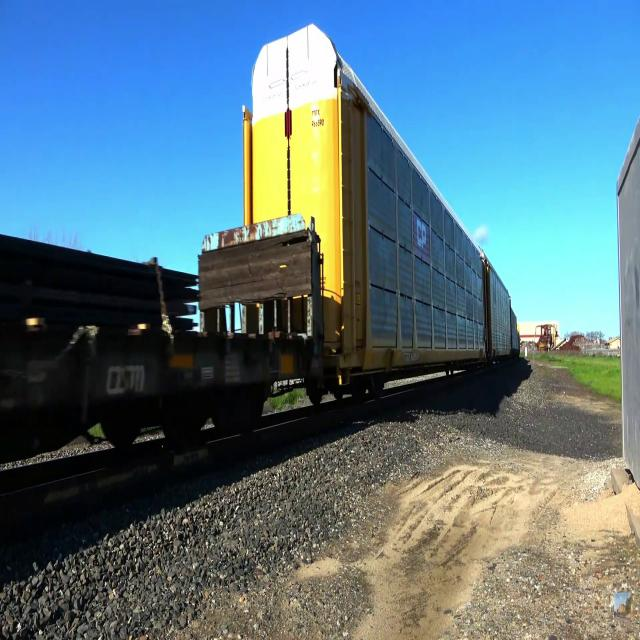autorack: (238, 18, 491, 408), (487, 252, 511, 364)
cargo: (0, 224, 201, 340)
flatcar_bulkhead: (0, 196, 331, 514)
